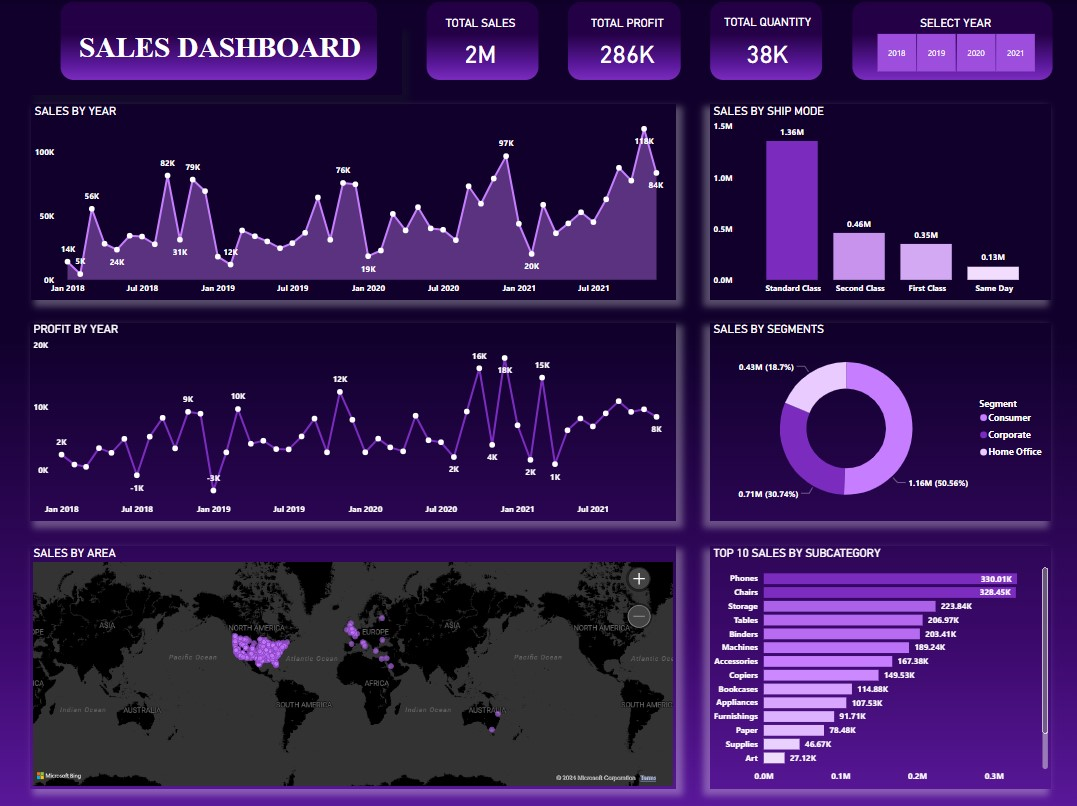

What the dashboard file says about the page in this screenshot:
{"tool":"powerbi","page":{"name":"Page 1","canvas":[1600,1200],"ordinal":0},"visuals":[{"type":"map","title":"SALES BY AREA","fields":{"Category":["Orders.City"]},"box":[44.2,810.3,959.1,359.9],"z":0},{"type":"areaChart","title":"SALES BY YEAR","fields":{"Category":["Orders.Order Date.Variation.Date Hierarchy.Year","Orders.Order Date.Variation.Date Hierarchy.Month"],"Y":["Sum(Orders.Sales)"]},"box":[46.2,154.8,957.1,291.6],"z":1000},{"type":"donutChart","title":"SALES BY SEGMENTS","fields":{"Category":["Orders.Segment"],"Y":["Sum(Orders.Sales)"]},"box":[1053.6,478.6,506.7,295.6],"z":2000},{"type":"clusteredColumnChart","title":"SALES BY SHIP MODE","fields":{"Category":["Orders.Ship Mode"],"Y":["Sum(Orders.Sales)"]},"box":[1053.6,154.8,506.7,291.6],"z":3000},{"type":"slicer","title":"SELECT YEAR","fields":{"Values":["Orders.Order Date.Variation.Date Hierarchy.Year"]},"box":[1276.8,24.1,283.5,88.5],"z":4000},{"type":"card","title":"TOTAL PROFIT","fields":{"Values":["Sum(Orders.Profit)"]},"box":[829.4,24.1,203.1,88.5],"z":5000},{"type":"card","title":"TOTAL QUANTITY","fields":{"Values":["Sum(Orders.Quantity)"]},"box":[1031.5,22.1,215.1,92.5],"z":6000},{"type":"card","title":"TOTAL SALES","fields":{"Values":["Sum(Orders.Sales)"]},"box":[623.8,24.1,179,88.5],"z":7000},{"type":"barChart","title":"TOP 10 SALES BY SUBCATEGORY","fields":{"Y":["Sum(Orders.Sales)"],"Category":["Orders.Sub-Category"]},"box":[1053.6,810.3,506.7,359.9],"z":8000},{"type":"lineChart","title":"PROFIT BY YEAR","fields":{"Category":["Orders.Order Date.Variation.Date Hierarchy.Year"],"Y":["Sum(Orders.Profit)"]},"box":[44.2,478.6,959.1,295.6],"z":9000},{"type":"textbox","box":[44.2,40.2,553,100.5],"z":10000}]}

Visuals, with their boxes in screenshot pixels (x1, y1, x2, y2), scaled from the page's 1600x1200 canvas onto the 1077x806 screenshot:
"SALES BY AREA" map: detection(30, 544, 675, 786)
"SALES BY YEAR" areaChart: detection(31, 104, 675, 300)
"SALES BY SEGMENTS" donutChart: detection(709, 321, 1050, 520)
"SALES BY SHIP MODE" clusteredColumnChart: detection(709, 104, 1050, 300)
"SELECT YEAR" slicer: detection(859, 16, 1050, 76)
"TOTAL PROFIT" card: detection(558, 16, 695, 76)
"TOTAL QUANTITY" card: detection(694, 15, 839, 77)
"TOTAL SALES" card: detection(420, 16, 540, 76)
"TOP 10 SALES BY SUBCATEGORY" barChart: detection(709, 544, 1050, 786)
"PROFIT BY YEAR" lineChart: detection(30, 321, 675, 520)
textbox: detection(30, 27, 402, 95)
